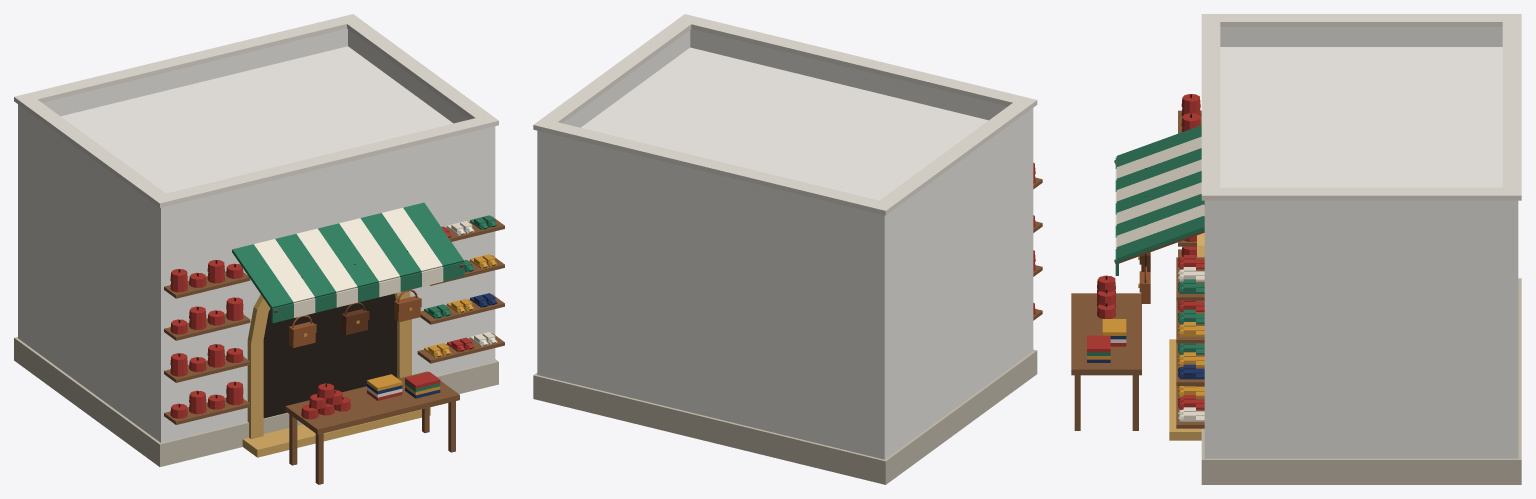
Rendered from SidiBouSaid_Vendor_ChechiaLeather.fbx.
3 views of the same model, side by side, from view 1: azimuth 30°, elevation 25°; view 2: azimuth 150°, elevation 25°; view 3: azimuth 270°, elevation 25° (orthographic). The views are drawn at different scales.
Visible parts, largest first — view 1: SidiBouSaid_Vendor_ChechiaLeather.001; view 2: SidiBouSaid_Vendor_ChechiaLeather.001; view 3: SidiBouSaid_Vendor_ChechiaLeather.001.
Boxes of the visible parts, left/top/right/bottom form: SidiBouSaid_Vendor_ChechiaLeather.001: left=14, top=14, right=504, bottom=484; SidiBouSaid_Vendor_ChechiaLeather.001: left=533, top=14, right=1042, bottom=484; SidiBouSaid_Vendor_ChechiaLeather.001: left=1071, top=14, right=1521, bottom=484.
Size of the model in its own units: 5.48 by 4.07 by 5.74.
